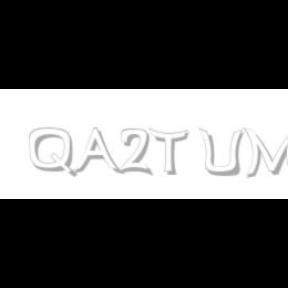2: (117, 128, 151, 176)
A: (72, 128, 120, 176)
Q: (29, 128, 75, 178)
T: (148, 128, 188, 176)
U: (198, 128, 242, 178)
